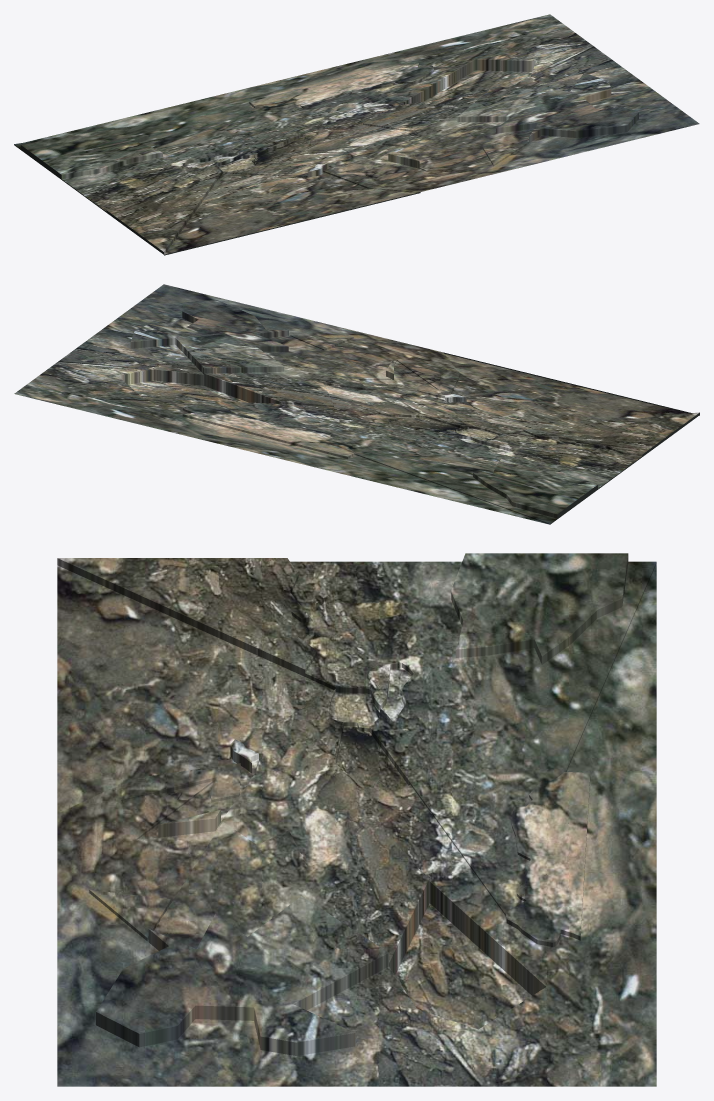
The model's file is suelocueva.fbx.
3 views of the same model, one above another, from view 1: azimuth 30°, elevation 25°; view 2: azimuth 150°, elevation 25°; view 3: azimuth 270°, elevation 25° (orthographic). The views are drawn at different scales.
Parts seen in each view (by area): view 1: Plano; view 2: Plano; view 3: Plano.
Boxes of the visible parts, x1,y1,x2,y2 form: Plano: (14, 14, 699, 255); Plano: (14, 284, 699, 524); Plano: (57, 553, 656, 1086).
Bounding box in the file's own units: 4132 × 130 × 2000.
1 material, 1 textured.
